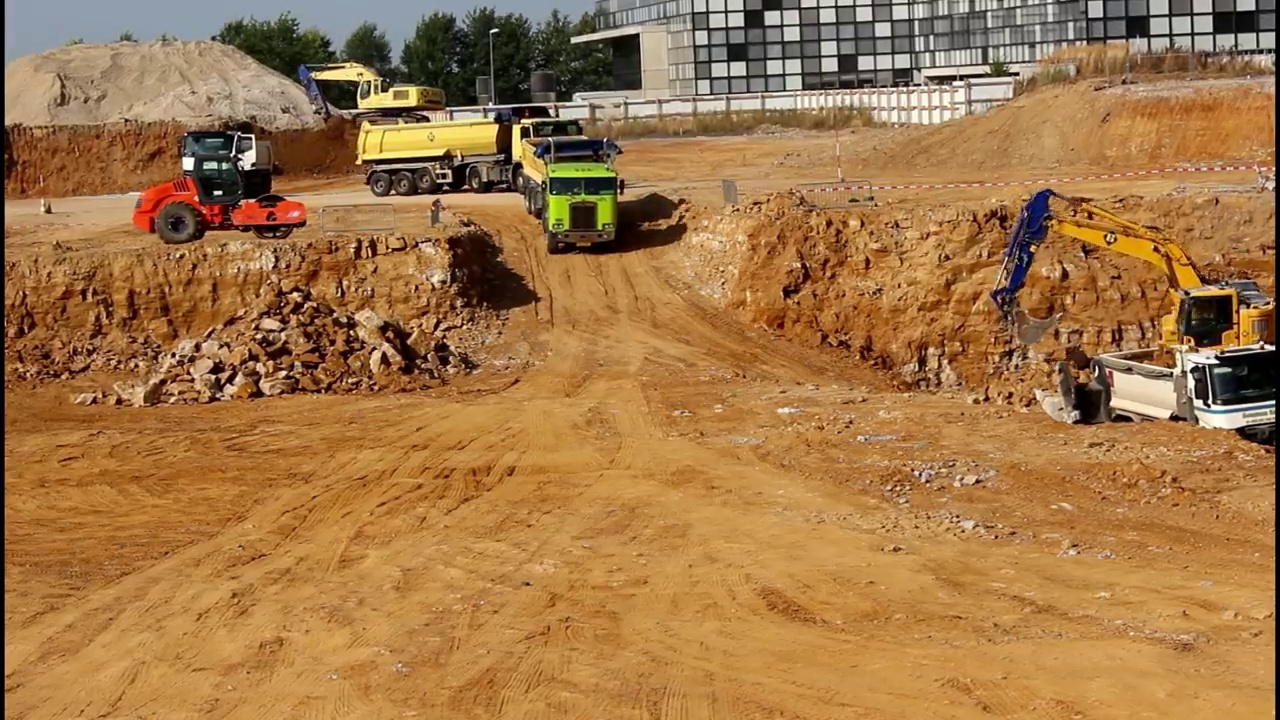compactor: (130, 155, 312, 243)
excavator: (987, 185, 1280, 394), (294, 52, 447, 141)
truck: (1078, 338, 1280, 469), (356, 103, 599, 198), (523, 137, 630, 252), (174, 120, 290, 206)
